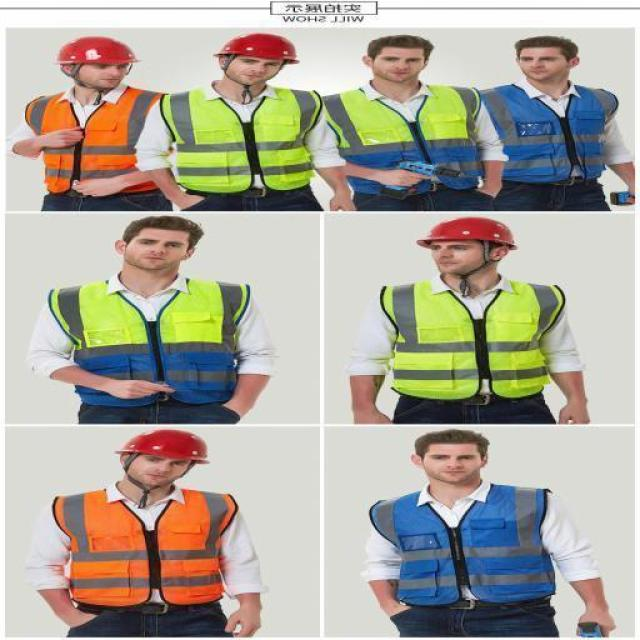face_nomask: (128, 233, 188, 269), (425, 448, 481, 482), (134, 451, 190, 484), (425, 240, 475, 274), (234, 52, 281, 84), (514, 50, 560, 81), (86, 59, 129, 89), (376, 52, 422, 78)
hand_noglove: (106, 373, 179, 405), (374, 160, 426, 192), (69, 170, 116, 202), (221, 607, 266, 640), (42, 120, 86, 152)
head_helmet: (412, 216, 522, 249), (111, 428, 212, 463), (206, 30, 306, 64), (47, 34, 146, 66)
head_nohelmet: (355, 29, 440, 62), (114, 211, 204, 240), (408, 428, 496, 456), (506, 32, 584, 58)
person: (33, 427, 289, 640), (357, 429, 612, 640), (347, 217, 606, 423), (32, 216, 280, 418), (132, 32, 360, 208), (322, 30, 508, 209), (472, 30, 636, 209), (9, 35, 180, 205)
vest: (44, 277, 255, 405), (42, 484, 244, 611), (368, 482, 558, 610), (376, 279, 566, 401), (170, 83, 324, 193), (26, 86, 173, 196), (327, 86, 474, 193), (477, 79, 615, 186)
